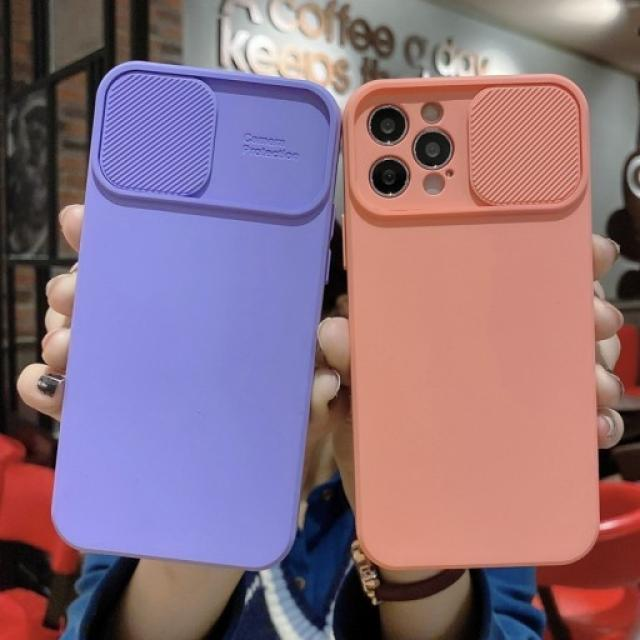phone: (58, 57, 338, 574), (344, 70, 608, 571)
